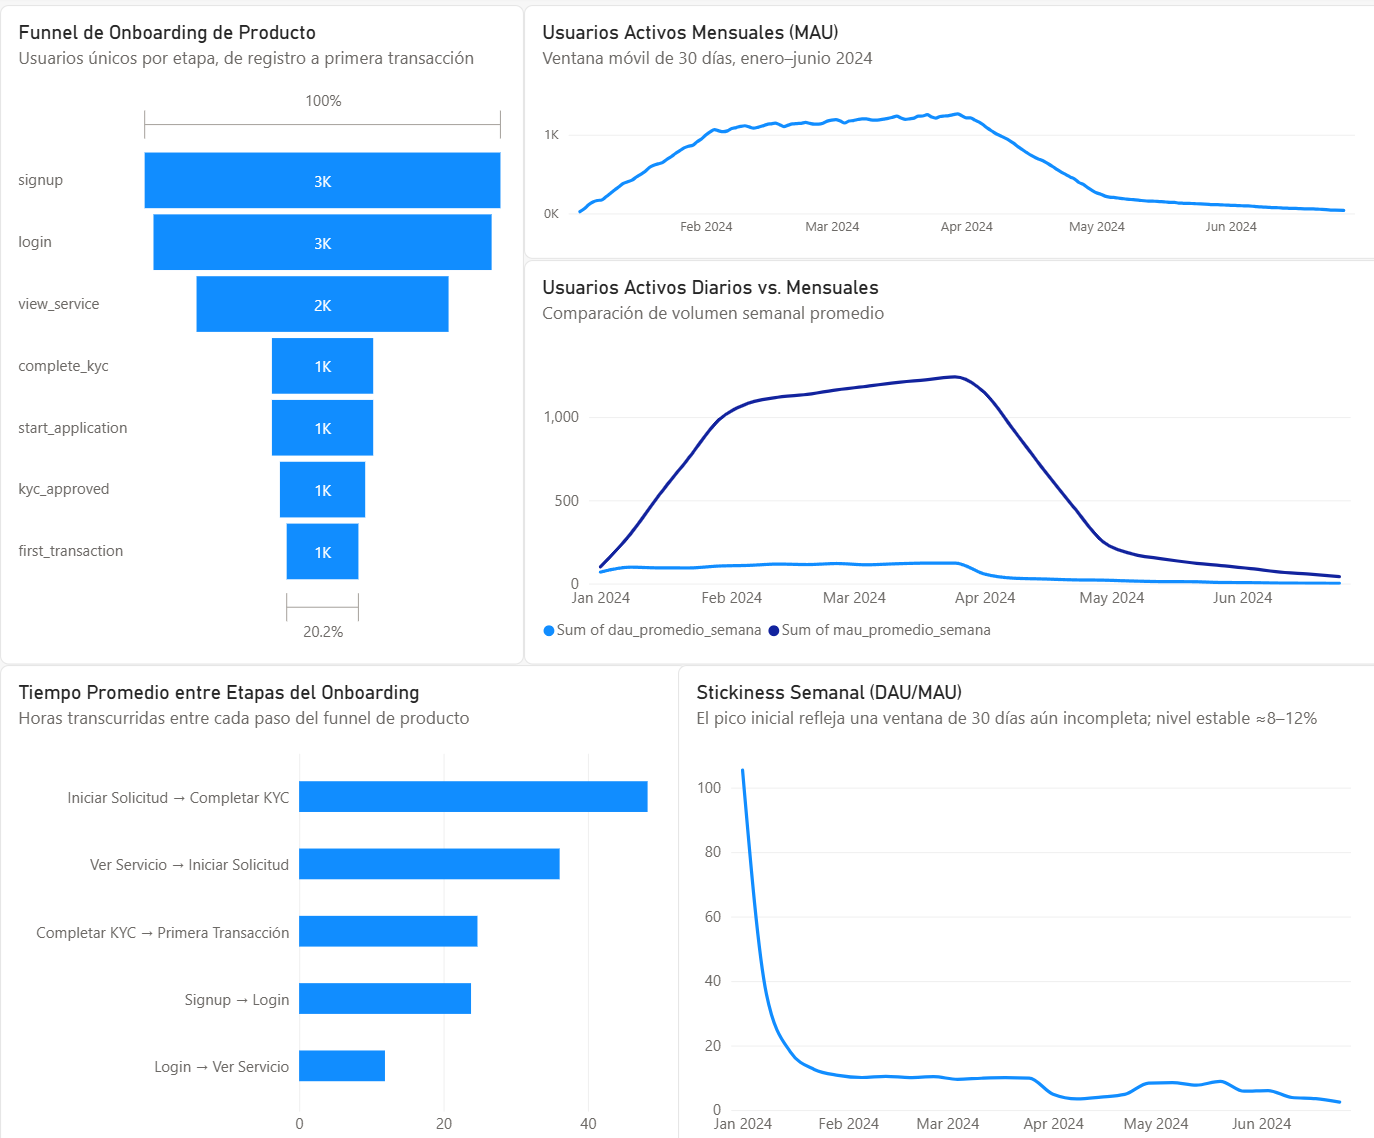

The dashboard page shown, as its layout file describes it:
{"tool":"powerbi","page":{"name":"Producto & Engagement","canvas":[1920,1080],"ordinal":1},"visuals":[{"type":"funnel","title":"Funnel de Onboarding de Producto","fields":{"Category":["FunnelProductoConteo.event_name"],"Y":["Sum(FunnelProductoConteo.usuarios_unicos)"]},"box":[0,8.6,487.1,612.9],"z":0},{"type":"barChart","title":"Tiempo Promedio entre Etapas del Onboarding","fields":{"Category":["FunnelProductoTiempos.Transición"],"Y":["Sum(FunnelProductoTiempos.Horas)"]},"box":[0,621.4,638.6,458.6],"z":1000},{"type":"lineChart","title":"Usuarios Activos Mensuales (MAU)","fields":{"Category":["MAUDiario.activity_day"],"Y":["Sum(MAUDiario.mau)"]},"box":[487.1,8.6,802.9,235.7],"z":2000},{"type":"lineChart","title":"Usuarios Activos Diarios vs. Mensuales","fields":{"Category":["StickinessSemanal.activity_week"],"Y":["Sum(StickinessSemanal.dau_promedio_semana)","Sum(StickinessSemanal.mau_promedio_semana)"]},"box":[487.1,245.7,802.9,375.7],"z":3000},{"type":"lineChart","title":"Stickiness Semanal (DAU/MAU)","fields":{"Category":["StickinessSemanal.activity_week"],"Y":["Sum(StickinessSemanal.stickiness_pct_promedio)"]},"box":[630,621.4,660,458.6],"z":4000}]}

Visuals, with their boxes on the page's 1920x1080 design canvas (x1, y1, x2, y2). These are canvas units, not pixel positions in the 1374x1138 screenshot, which may show the page scaled, cropped or inside an application window:
"Funnel de Onboarding de Producto" funnel: 0 9 487 622
"Tiempo Promedio entre Etapas del Onboarding" barChart: 0 621 639 1080
"Usuarios Activos Mensuales (MAU)" lineChart: 487 9 1290 244
"Usuarios Activos Diarios vs. Mensuales" lineChart: 487 246 1290 621
"Stickiness Semanal (DAU/MAU)" lineChart: 630 621 1290 1080
